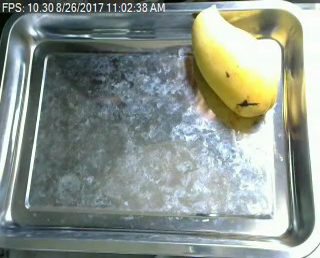Mango: (181, 4, 284, 124)
